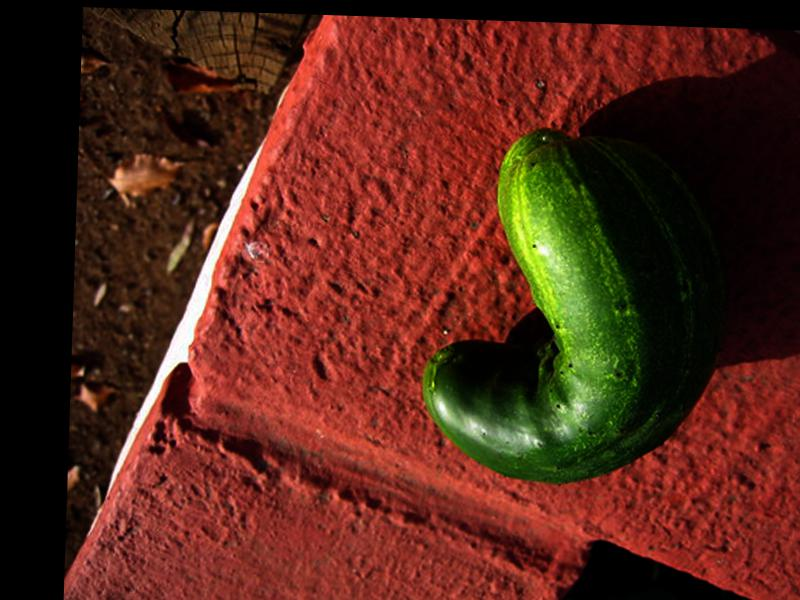Cucumber: (416, 126, 729, 488)
